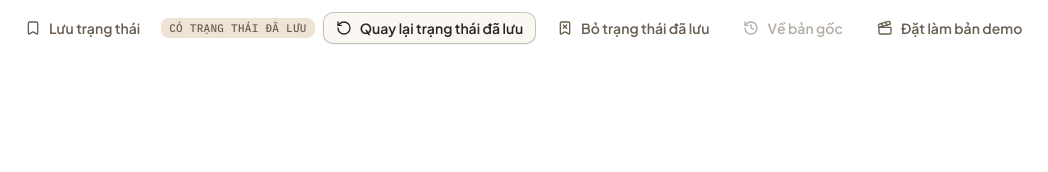
DemoControls: mốc gốc › Reviewer can replace a saved state while viewing the original
Click the button "Lưu trạng thái". click: [83, 28]
box: x1=12 y1=12 x2=153 y2=44
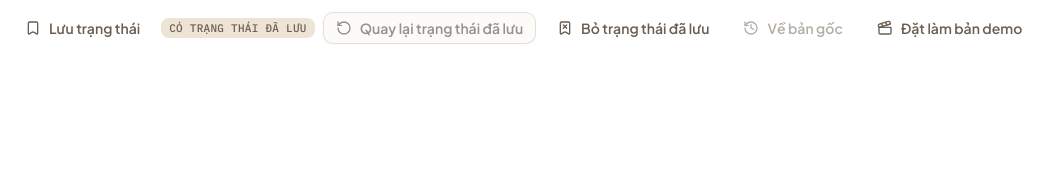
Now the button "Quay lại trạng thái đã lưu" is disabled, box x1=323 y1=12 x2=536 y2=44
